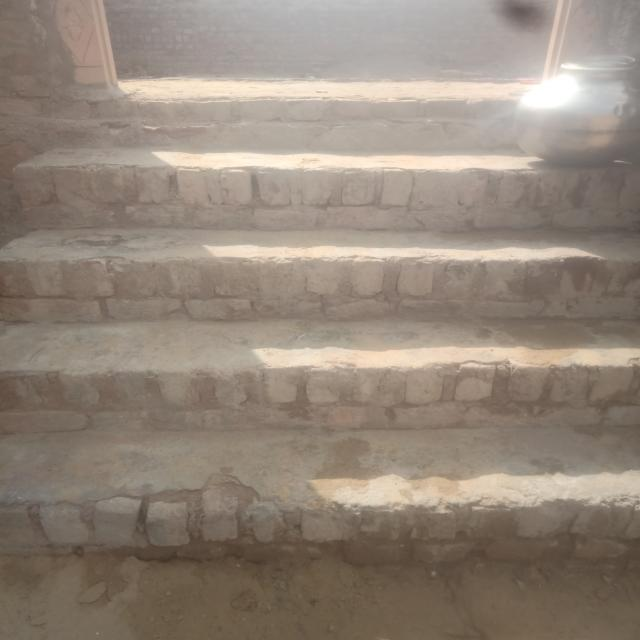Stairs: (24, 57, 640, 607)
